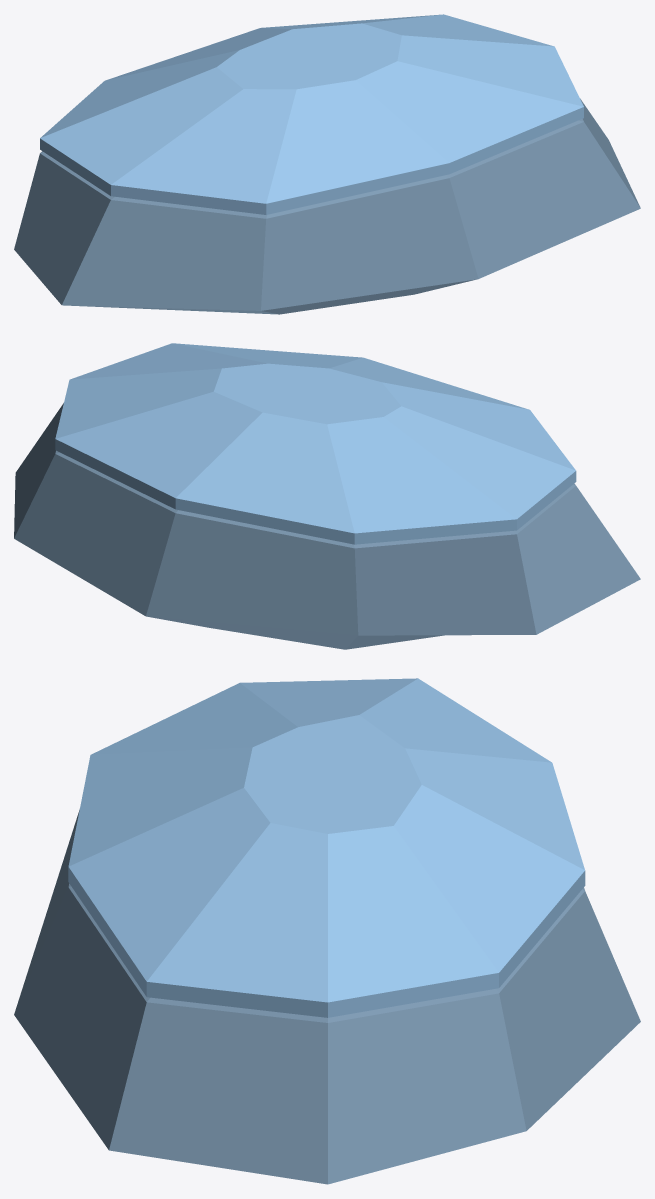
Rendered from rock_low.glb.
3 views of the same model, one above another, from view 1: azimuth 30°, elevation 25°; view 2: azimuth 150°, elevation 25°; view 3: azimuth 270°, elevation 25° (orthographic). The views are drawn at different scales.
Visible parts, largest first — view 1: Near; view 2: Near; view 3: Near.
Boxes of the visible parts, bbox=[...] form: Near: bbox=[14, 14, 640, 314]; Near: bbox=[14, 343, 640, 649]; Near: bbox=[14, 678, 640, 1184].
Bounding box in the file's own units: 2.46 × 0.7896 × 1.66.
